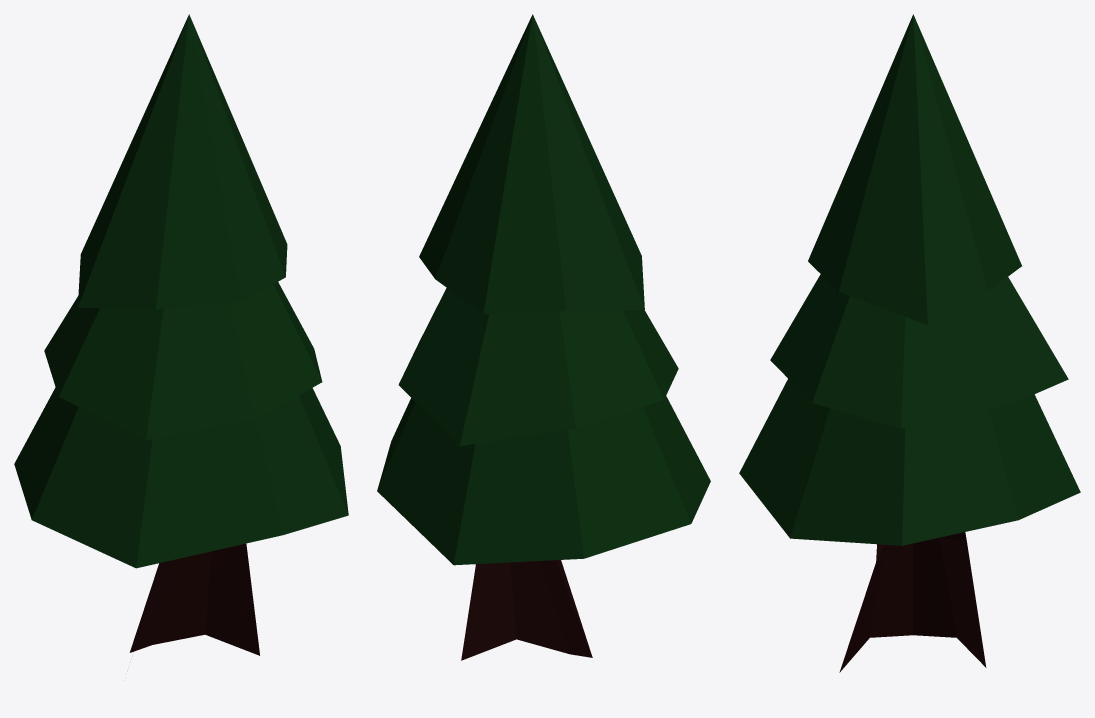
The picture shows the model from 3 angles, left to right: view 1: azimuth 30°, elevation 25°; view 2: azimuth 150°, elevation 25°; view 3: azimuth 270°, elevation 25°; orthographic projection.
Parts seen in each view (by area): view 1: Circle; view 2: Circle; view 3: Circle.
Part boxes in pixels (left/top/right/bottom): Circle: left=14, top=14, right=348, bottom=655; Circle: left=377, top=14, right=710, bottom=660; Circle: left=739, top=14, right=1080, bottom=672.
Bounding box in the file's own units: 0.2739 × 0.5717 × 0.2686.
